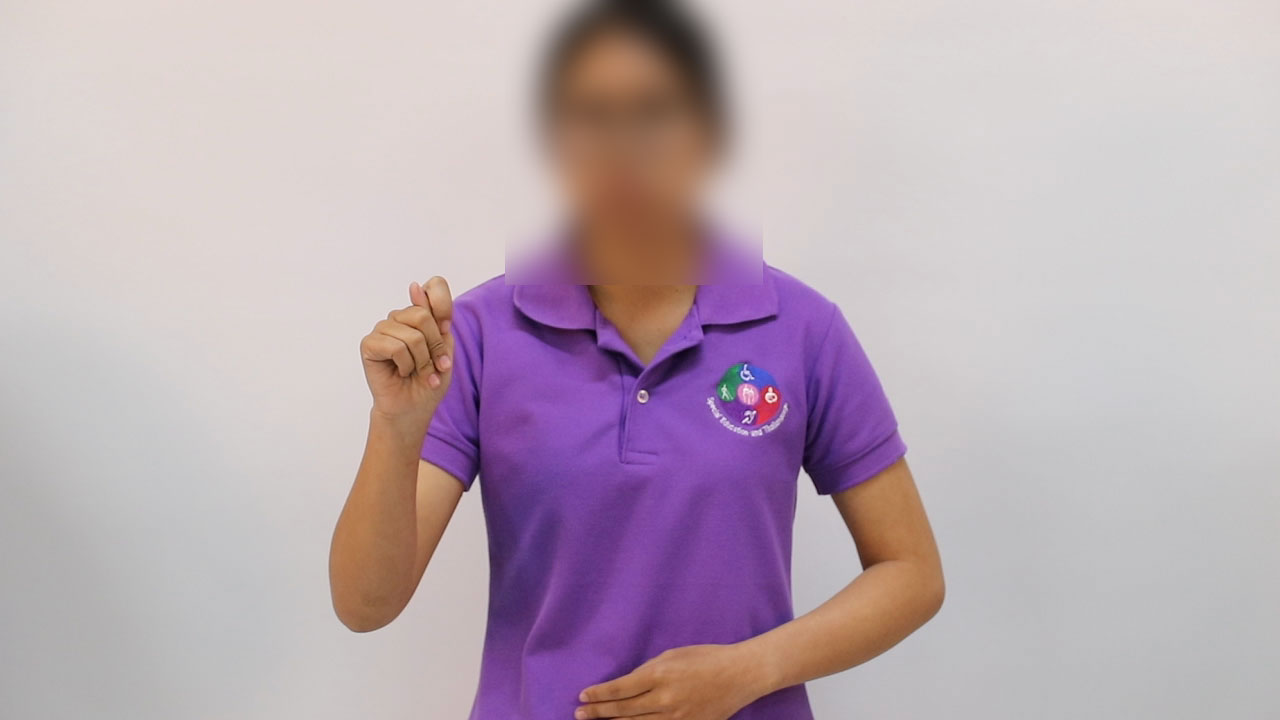tor: (325, 259, 487, 447)
